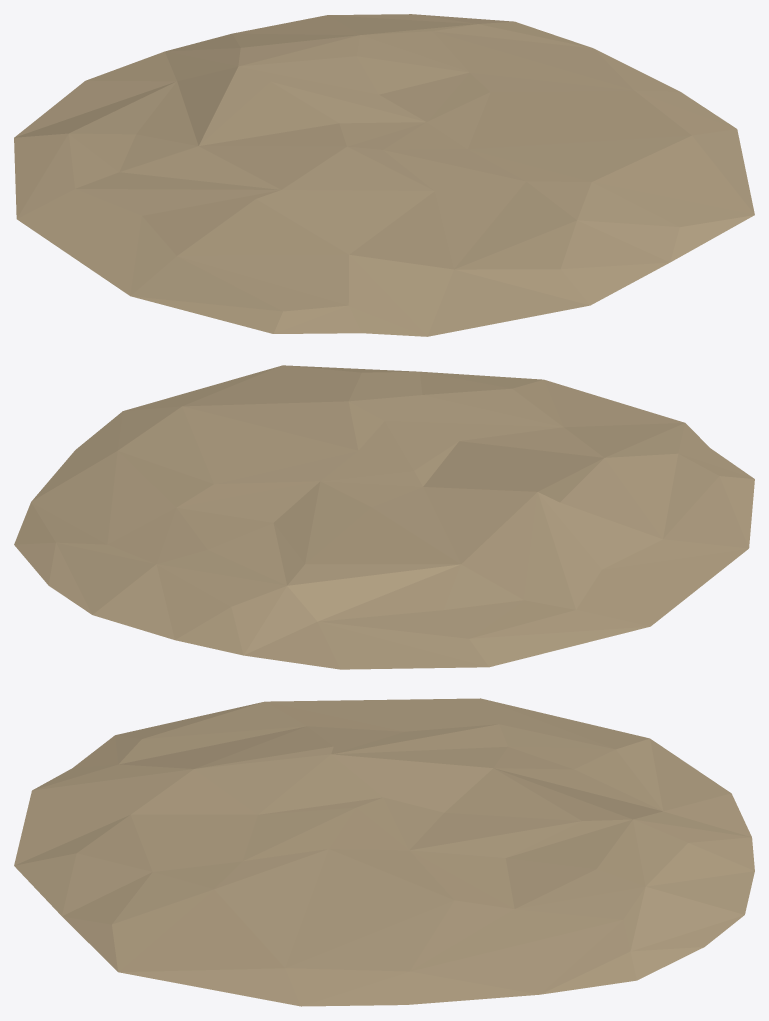
The model's file is SM_Env_Dirt_Dust_01.fbx.
3 views of the same model, one above another, from view 1: azimuth 30°, elevation 25°; view 2: azimuth 150°, elevation 25°; view 3: azimuth 270°, elevation 25° (orthographic). The views are drawn at different scales.
Parts seen in each view (by area): view 1: SM_Env_Dirt_Dust_01; view 2: SM_Env_Dirt_Dust_01; view 3: SM_Env_Dirt_Dust_01.
Part boxes in pixels (x1=…): SM_Env_Dirt_Dust_01: x1=14, y1=14, x2=754, y2=336; SM_Env_Dirt_Dust_01: x1=14, y1=365, x2=754, y2=669; SM_Env_Dirt_Dust_01: x1=14, y1=698, x2=754, y2=1006.
Size of the model in its own units: 214 by 13 by 216.
